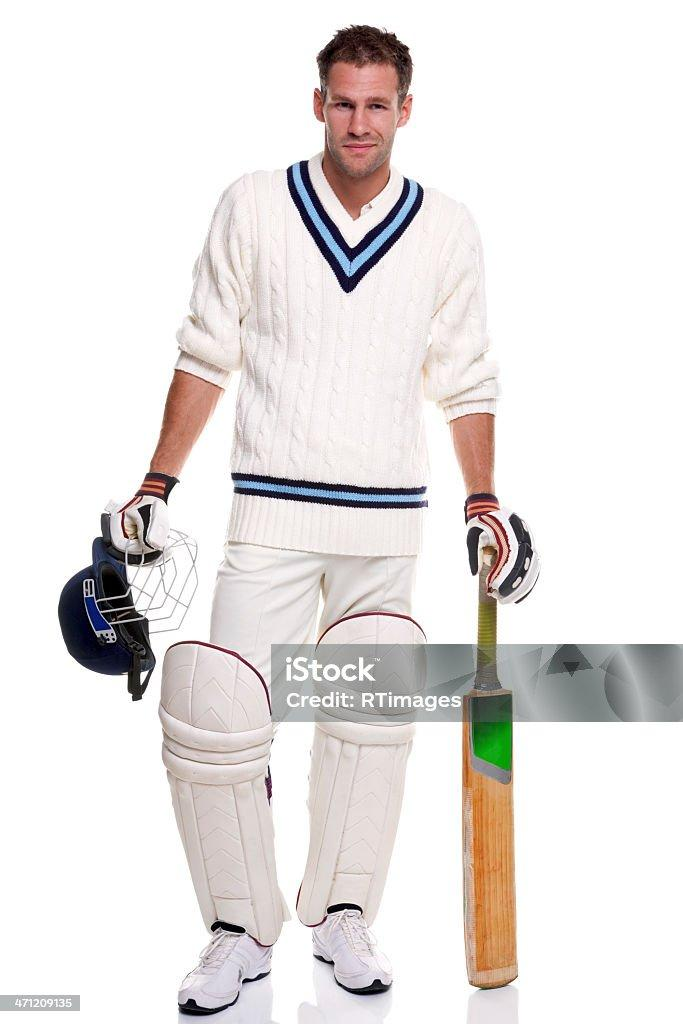batsman: (153, 14, 568, 1015)
